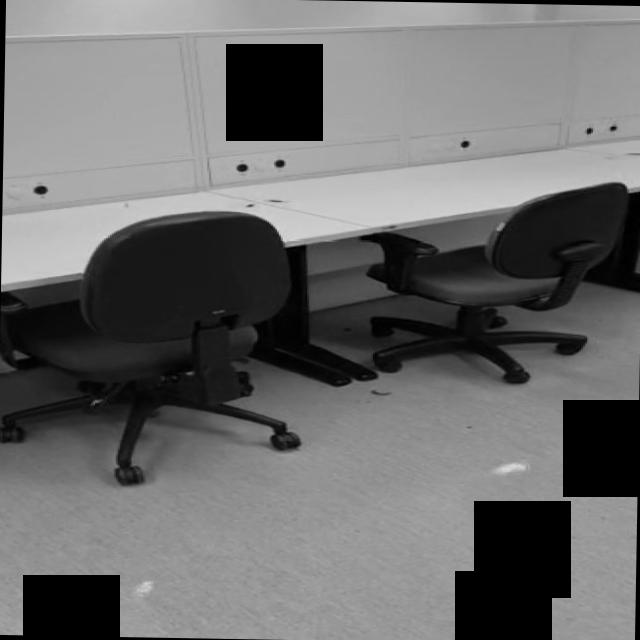cadeira-azul: (0, 205, 304, 486)
